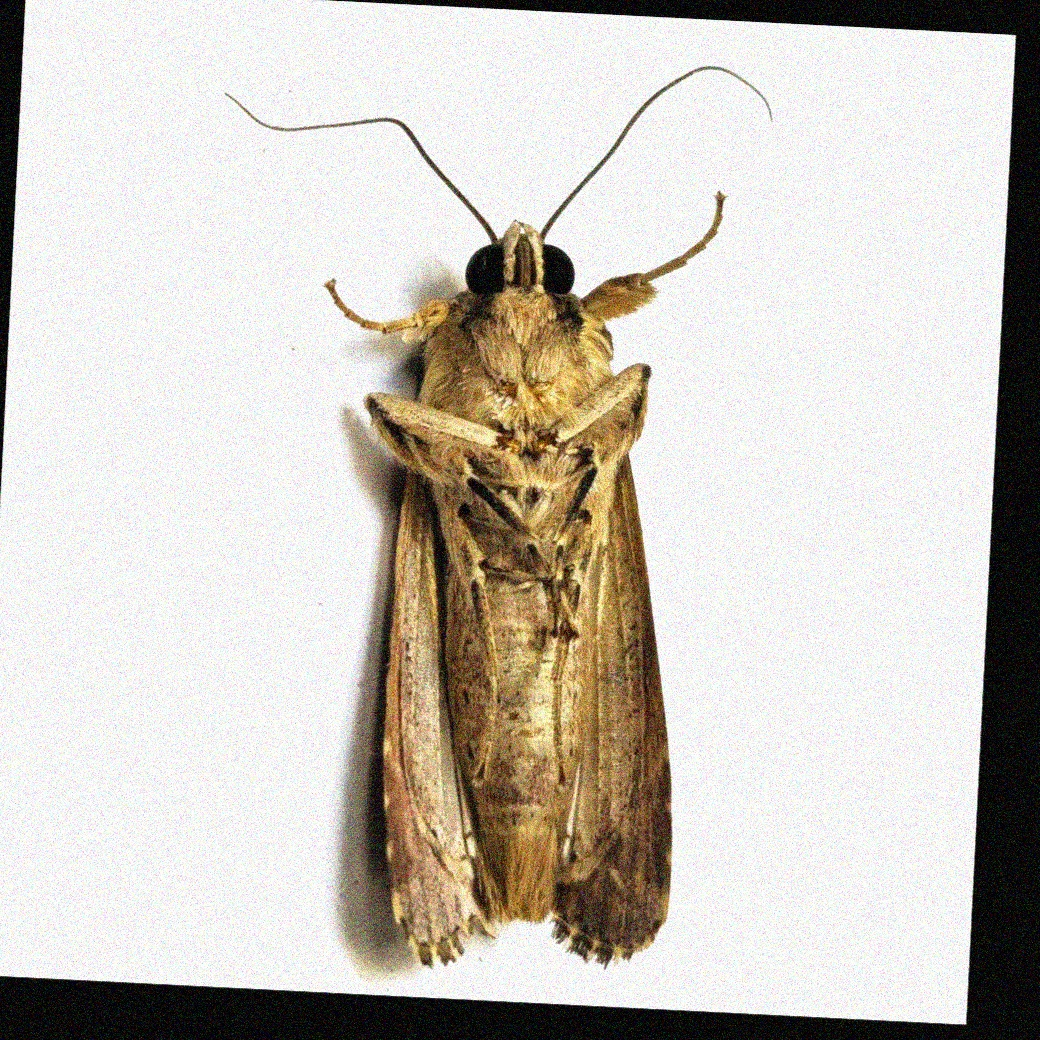Spodoptera litura: (202, 54, 752, 970)
